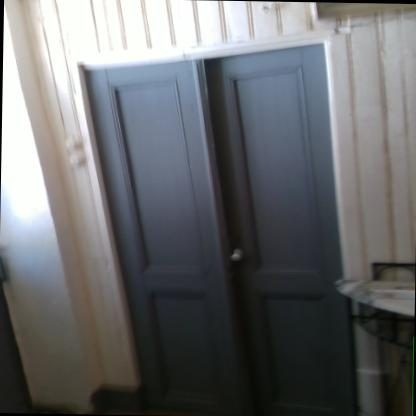closed: (64, 23, 350, 415)
